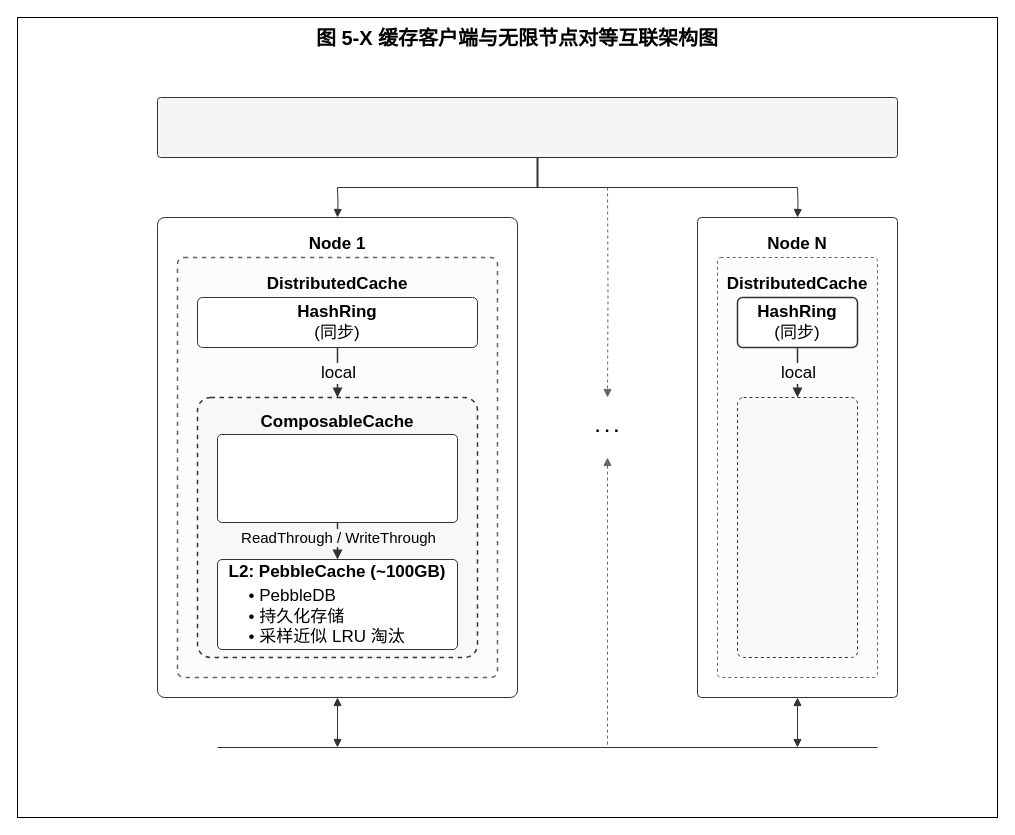
This 1015x835 diagram has some shape labels left out. Here are the shapes that lost their labels. From the top down, the centre of each, then its label:
the point at 527,127: 客户端层 (编译客户端，可连接任意节点)
the point at 337,478: L1: MemoryCache (~100MB) • 内存缓存 • 低延迟 • 热点数据加速
the point at 797,527: Composable Cache (L1 + L2) 同 Node 1
the point at 562,763: gRPC 对等互联 (Peer-to-Peer)
